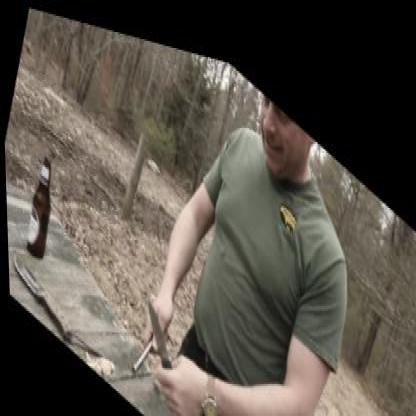knife: (122, 272, 205, 414)
